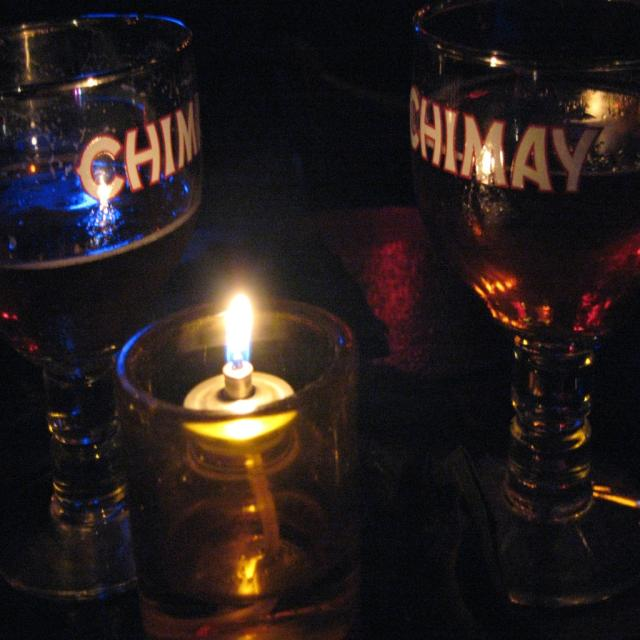chimay: (405, 81, 606, 203), (74, 94, 204, 213)
